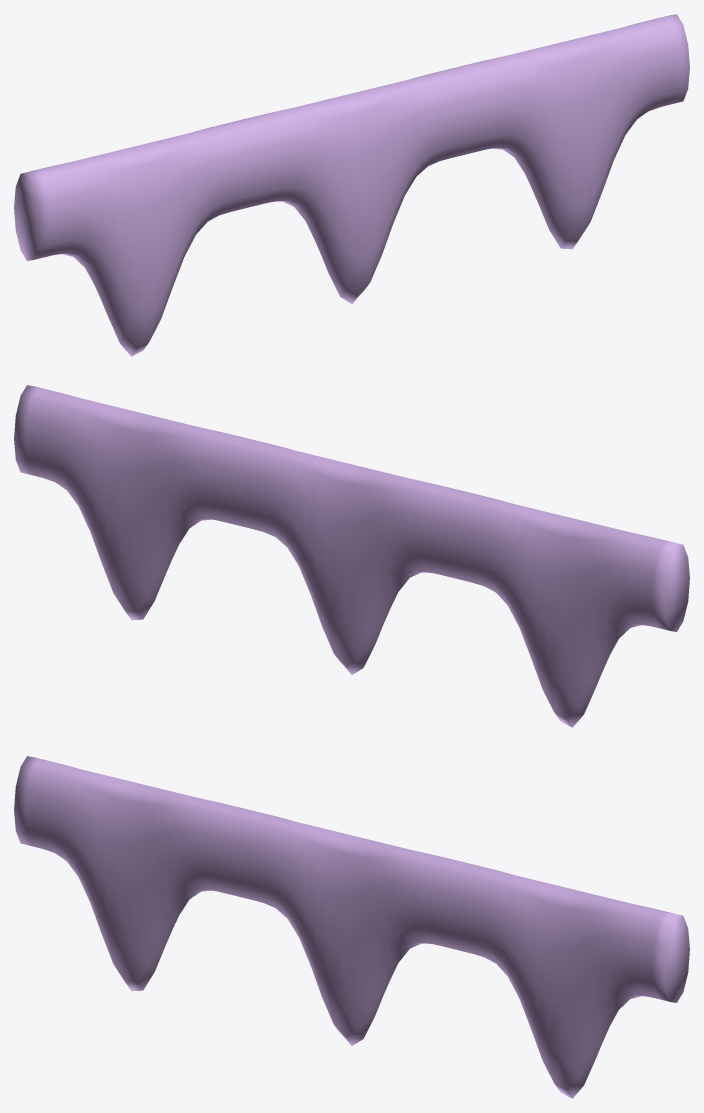
File: GlazeDrip.fbx
The picture shows the model from 3 angles, top to bottom: view 1: azimuth 30°, elevation 25°; view 2: azimuth 150°, elevation 25°; view 3: azimuth 330°, elevation 25°; orthographic projection.
Visible parts, largest first — view 1: GlazeDrip; view 2: GlazeDrip; view 3: GlazeDrip.
Part boxes in pixels (x1=…): GlazeDrip: x1=14, y1=14, x2=689, y2=356; GlazeDrip: x1=14, y1=385, x2=689, y2=727; GlazeDrip: x1=14, y1=756, x2=689, y2=1098.
Size of the model in its own units: 0.1 by 0.031 by 0.007.
